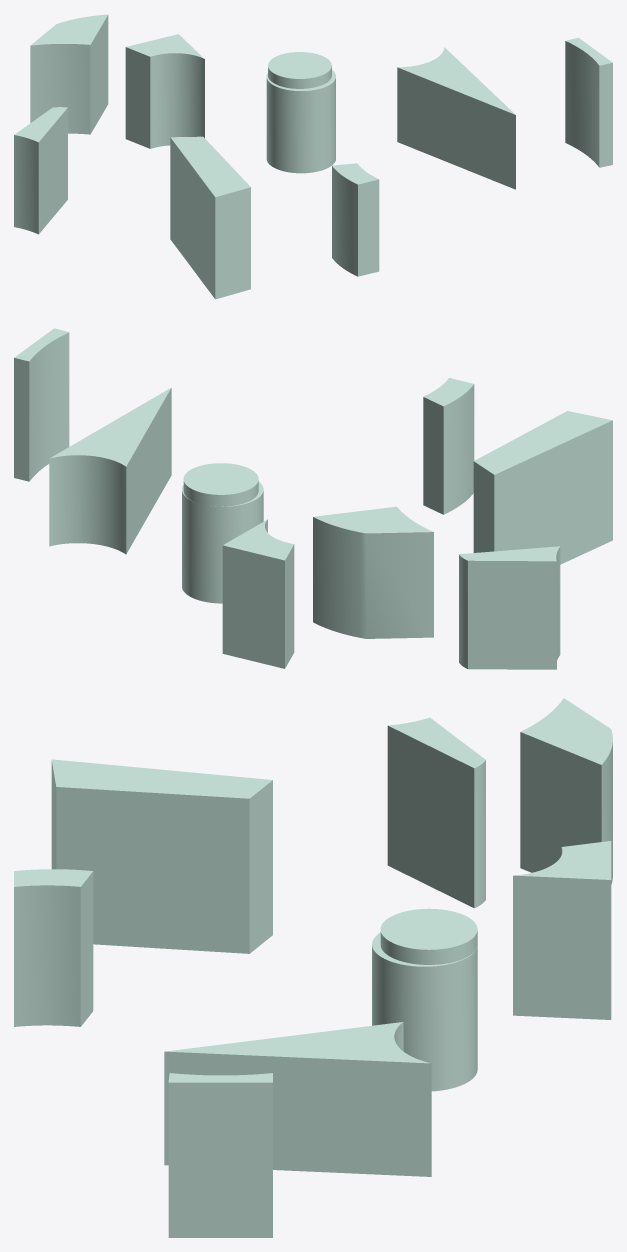
3 renders of one model, top to bottom at view 1: azimuth 30°, elevation 25°; view 2: azimuth 150°, elevation 25°; view 3: azimuth 270°, elevation 25°, orthographic. The views are drawn at different scales.
Visible parts, largest first — view 1: Renderer Node; view 2: Renderer Node; view 3: Renderer Node.
Boxes of the visible parts, left/top/right/bottom form: Renderer Node: left=14, top=14, right=612, bottom=299; Renderer Node: left=14, top=328, right=612, bottom=669; Renderer Node: left=14, top=698, right=612, bottom=1237.
Size of the model in its own units: 1.68 by 0.4219 by 1.12.
